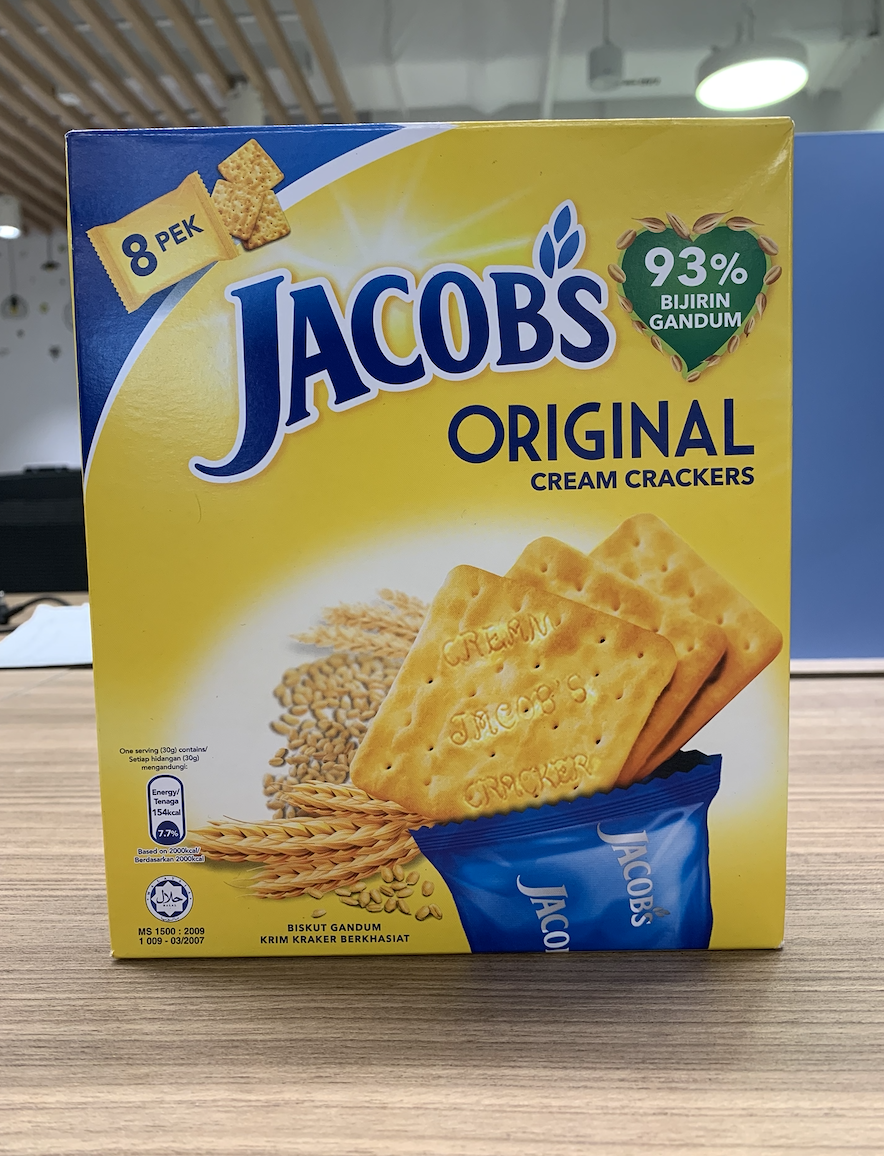crackers_200g-299g: (106, 148, 779, 957)
